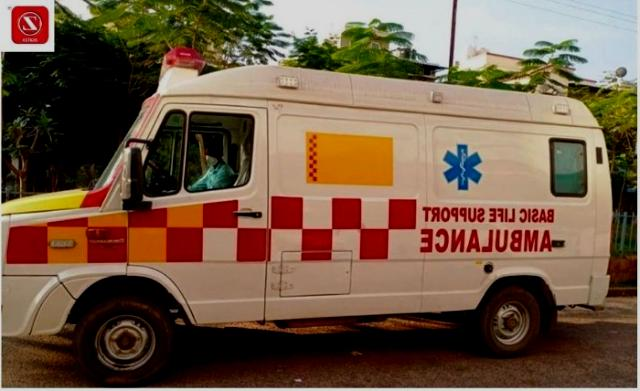ambulance: (4, 44, 619, 387)
